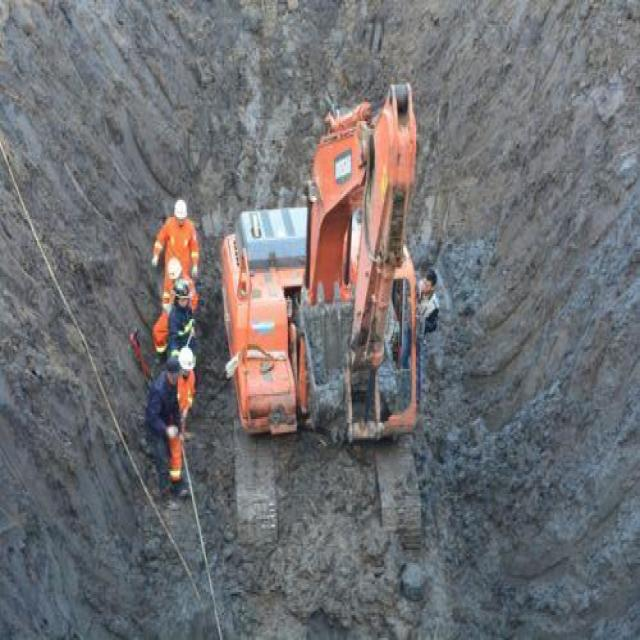helmet: (178, 342, 197, 381), (165, 254, 183, 286), (172, 198, 190, 229)
no-helmet: (422, 265, 440, 296), (164, 356, 182, 386)
